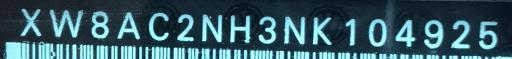letter: (47, 7, 85, 40), (116, 9, 144, 40), (18, 6, 44, 39), (392, 17, 418, 48), (146, 10, 170, 43), (200, 12, 224, 45), (282, 14, 306, 47), (310, 15, 334, 48), (449, 18, 473, 51), (474, 19, 498, 52), (174, 12, 198, 43), (229, 13, 251, 46), (366, 17, 388, 48), (422, 19, 444, 50), (256, 16, 278, 45), (90, 8, 110, 39), (344, 17, 358, 48)
